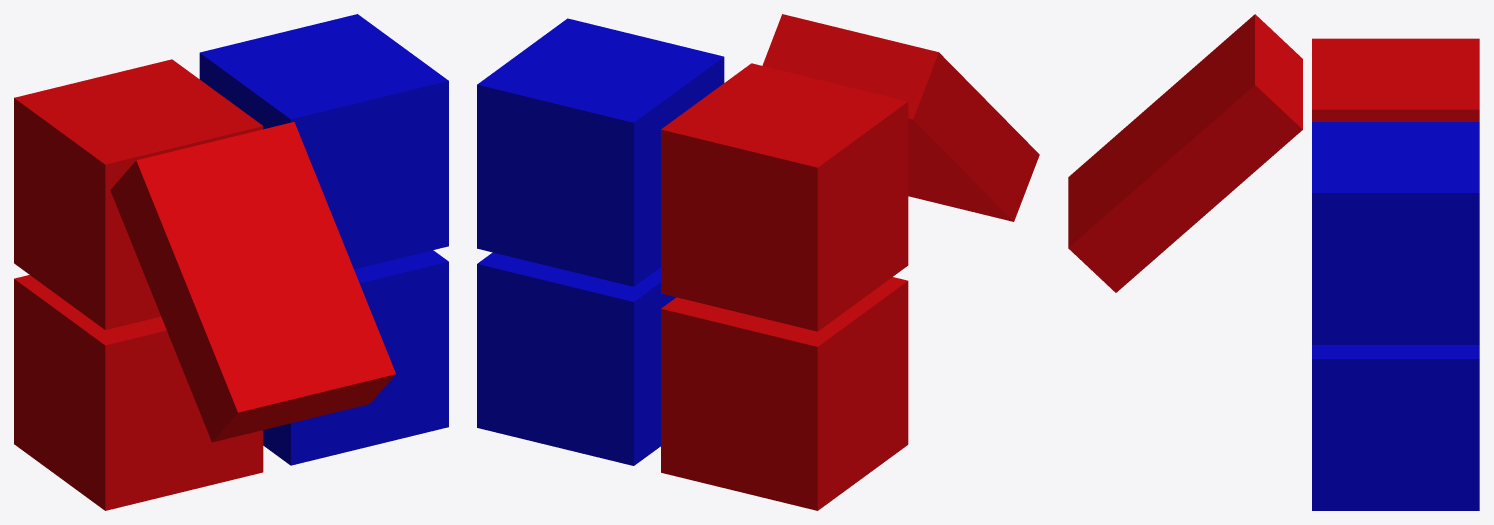
The picture shows the model from 3 angles, left to right: view 1: azimuth 30°, elevation 25°; view 2: azimuth 150°, elevation 25°; view 3: azimuth 270°, elevation 25°; orthographic projection. The views are drawn at different scales.
Visible parts, largest first — view 1: Cube.004, Cube.002, Cube.003, Cube, Cube.001; view 2: Cube.003, Cube.002, Cube, Cube.001, Cube.004; view 3: Cube.002, Cube.004, Cube.001, Cube.003.
Boxes of the visible parts, x1=… form: Cube.004: x1=110, y1=122, x2=395, y2=442; Cube.002: x1=199, y1=14, x2=448, y2=269; Cube.003: x1=14, y1=59, x2=263, y2=329; Cube: x1=14, y1=275, x2=263, y2=510; Cube.001: x1=263, y1=250, x2=448, y2=465; Cube.003: x1=661, y1=63, x2=908, y2=331; Cube.002: x1=477, y1=18, x2=724, y2=286; Cube: x1=661, y1=277, x2=908, y2=510; Cube.001: x1=477, y1=252, x2=675, y2=465; Cube.004: x1=762, y1=14, x2=1039, y2=221; Cube.002: x1=1312, y1=122, x2=1479, y2=344; Cube.004: x1=1068, y1=14, x2=1302, y2=292; Cube.001: x1=1312, y1=345, x2=1479, y2=510; Cube.003: x1=1312, y1=38, x2=1479, y2=121.
Size of the model in its own units: 109 by 113 by 123.
